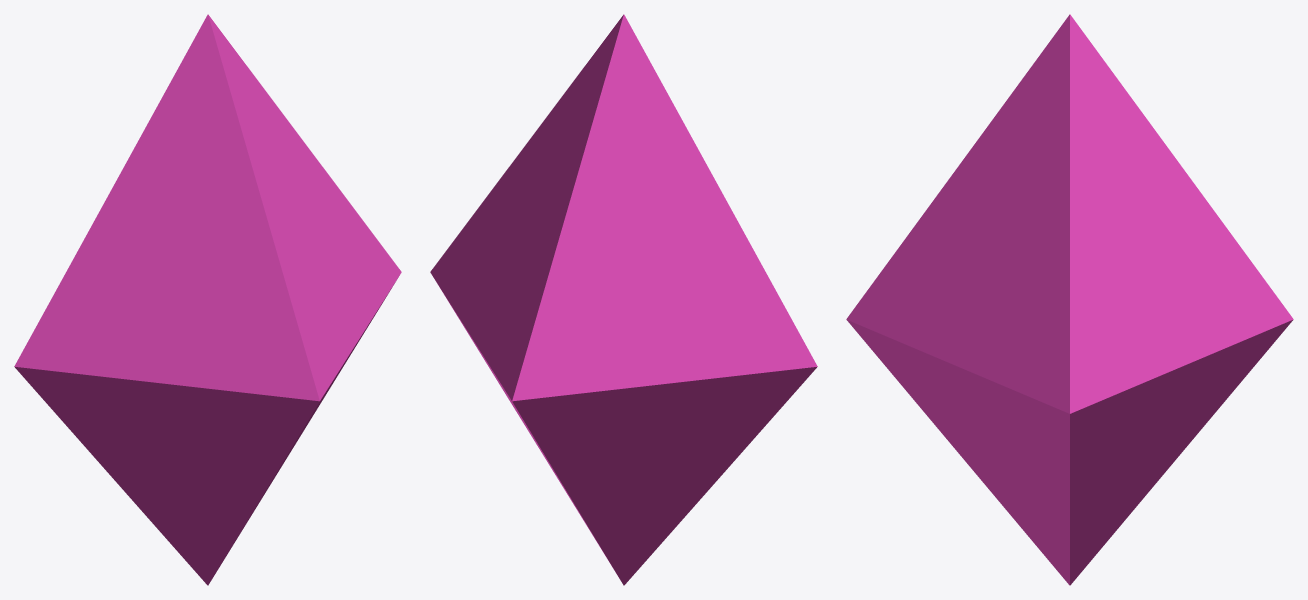
The model's file is CrystalDrop.fbx.
The picture shows the model from 3 angles, left to right: view 1: azimuth 30°, elevation 25°; view 2: azimuth 150°, elevation 25°; view 3: azimuth 270°, elevation 25°; orthographic projection.
Parts seen in each view (by area): view 1: Cube.001; view 2: Cube.001; view 3: Cube.001.
Boxes of the visible parts, bbox=[...] form: Cube.001: bbox=[14, 14, 401, 585]; Cube.001: bbox=[430, 14, 817, 585]; Cube.001: bbox=[846, 14, 1293, 585].
Bounding box in the file's own units: 200 × 282 × 200.
